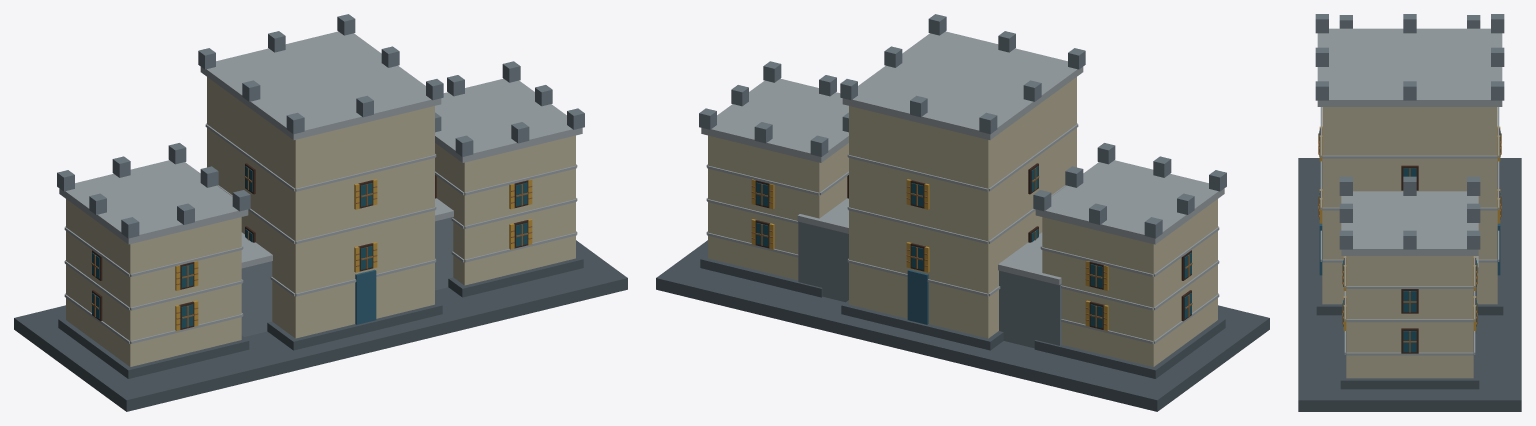
File: Blockland_TownBackdrop_Showcase.glb
3 renders of one model, left to right at view 1: azimuth 30°, elevation 25°; view 2: azimuth 150°, elevation 25°; view 3: azimuth 270°, elevation 25°, orthographic.
Parts seen in each view (by area): view 1: Blockland_TownBackdrop_Showcase; view 2: Blockland_TownBackdrop_Showcase; view 3: Blockland_TownBackdrop_Showcase.
Boxes of the visible parts, bbox=[...] form: Blockland_TownBackdrop_Showcase: bbox=[14, 14, 627, 411]; Blockland_TownBackdrop_Showcase: bbox=[656, 14, 1269, 411]; Blockland_TownBackdrop_Showcase: bbox=[1298, 14, 1521, 411].
Bounding box in the file's own units: 18 × 8.32 × 7.
